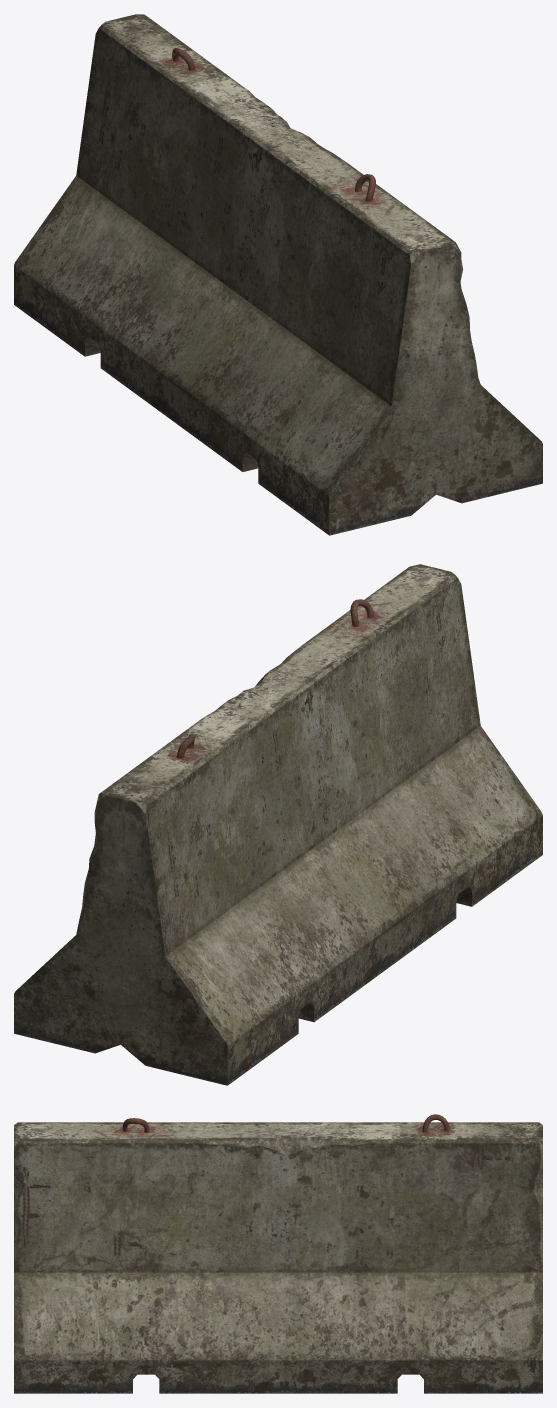
Rendered from road_block_b.glb.
3 renders of one model, top to bottom at view 1: azimuth 30°, elevation 25°; view 2: azimuth 150°, elevation 25°; view 3: azimuth 270°, elevation 25°, orthographic. The views are drawn at different scales.
Parts seen in each view (by area): view 1: block_low, petli_low; view 2: block_low; view 3: block_low, petli_low.
Boxes of the visible parts, bbox=[...] form: block_low: bbox=[14, 14, 542, 535]; petli_low: bbox=[172, 48, 375, 201]; block_low: bbox=[14, 564, 542, 1085]; block_low: bbox=[14, 1122, 542, 1393]; petli_low: bbox=[122, 1114, 449, 1132].
Bounding box in the file's own units: 0.7818 × 0.9786 × 2.
2 materials, 2 textured.
